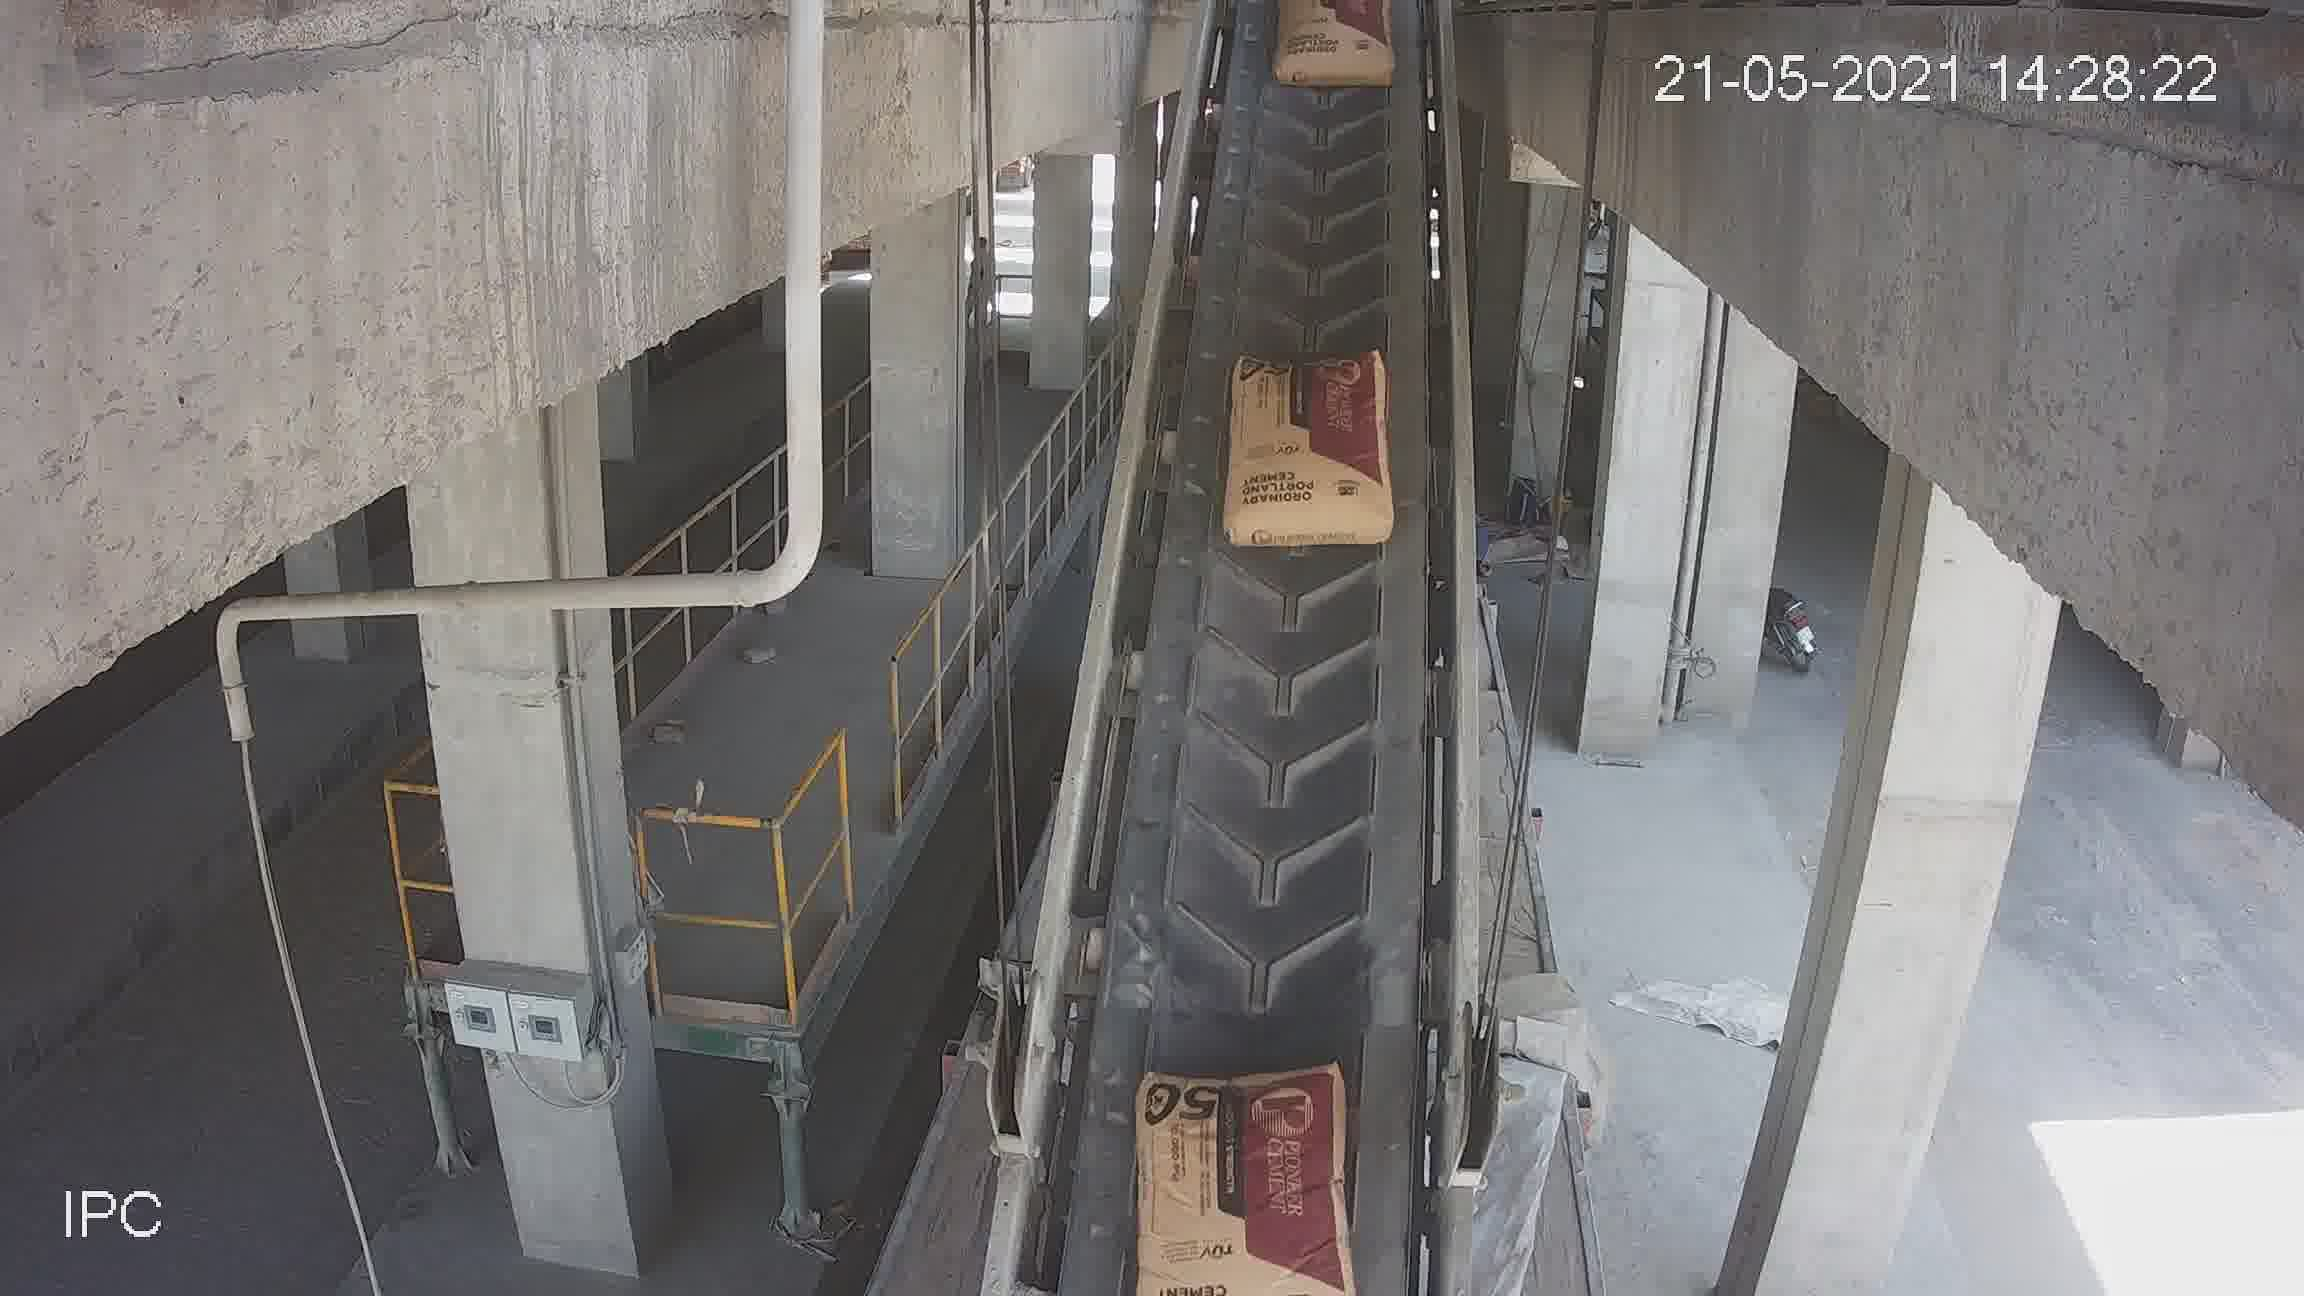bag: (1128, 1060, 1350, 1296), (1220, 361, 1388, 555), (1279, 5, 1383, 78)
belt: (1017, 25, 1492, 1225)
